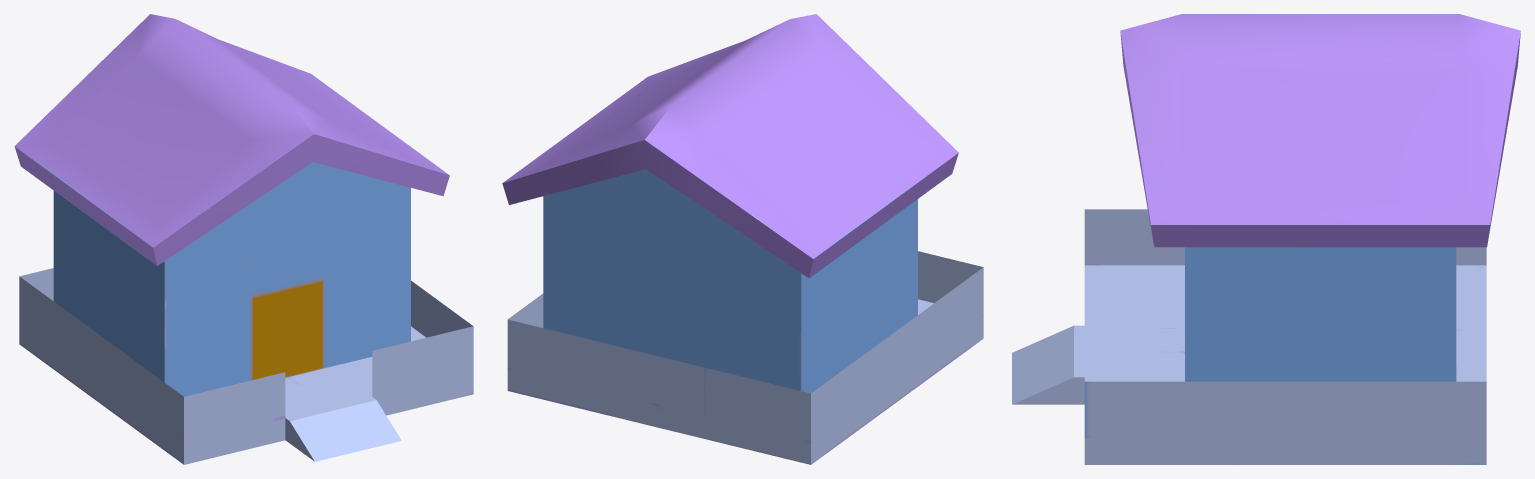
File: smallHouse_pCube1.FBX
The picture shows the model from 3 angles, left to right: view 1: azimuth 30°, elevation 25°; view 2: azimuth 150°, elevation 25°; view 3: azimuth 270°, elevation 25°; orthographic projection. The views are drawn at different scales.
Parts seen in each view (by area): view 1: smallHouse_pCube1; view 2: smallHouse_pCube1; view 3: smallHouse_pCube1.
Boxes of the visible parts, x1,y1,x2,y2 form: smallHouse_pCube1: [14, 14, 473, 464]; smallHouse_pCube1: [502, 14, 983, 464]; smallHouse_pCube1: [1012, 14, 1520, 464].
Bounding box in the file's own units: 6.87 × 8.35 × 6.61.
